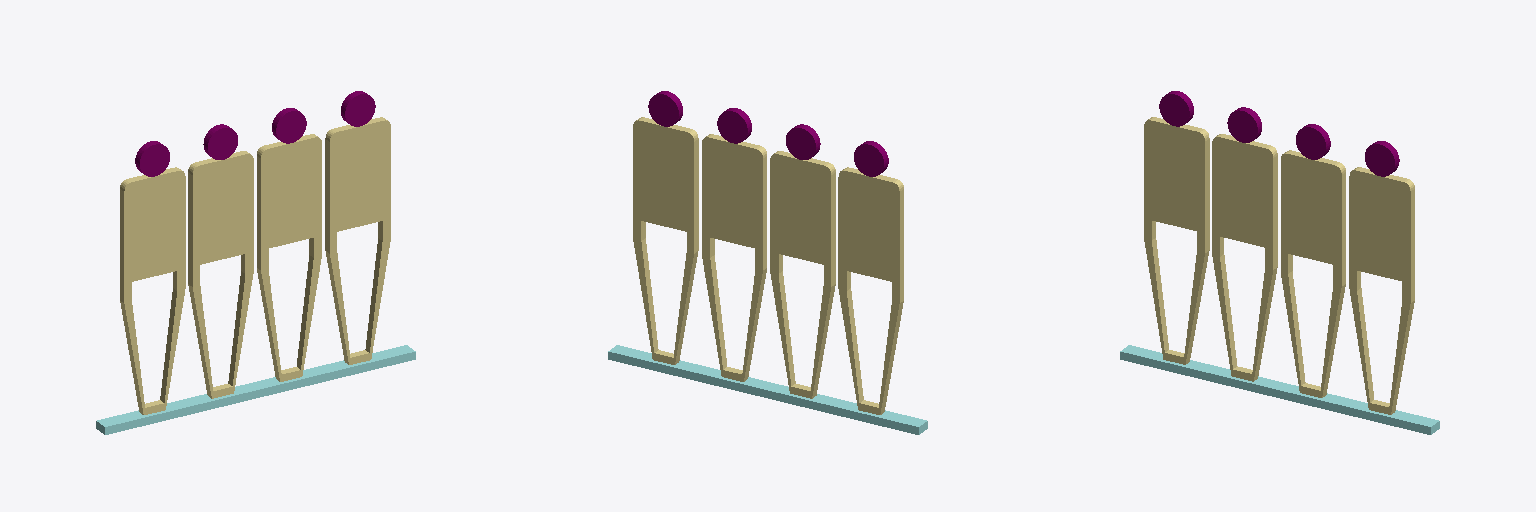
The model's file is wall.obj.
3 views of the same model, side by side, from view 1: azimuth 30°, elevation 25°; view 2: azimuth 150°, elevation 25°; view 3: azimuth 330°, elevation 25° (orthographic).
Parts seen in each view (by area): view 1: Box005, Box001, Box002, Box003, Box004, Cylinder001, Cylinder004, Cylinder002, Cylinder003; view 2: Box005, Box001, Box002, Box003, Box004, Cylinder001, Cylinder004, Cylinder002, Cylinder003; view 3: Box005, Box001, Box002, Box003, Box004, Cylinder003, Cylinder004, Cylinder001, Cylinder002.
Part boxes in pixels (x1,y1,x2,y2): Box005: (325,117,390,364); Box001: (120,167,185,414); Box002: (188,151,253,398); Box003: (257,134,321,381); Box004: (96,345,415,434); Cylinder001: (135,141,169,176); Cylinder004: (341,91,375,126); Cylinder002: (203,124,237,159); Cylinder003: (272,108,306,143); Box005: (633,117,698,364); Box001: (838,167,903,414); Box002: (770,151,835,398); Box003: (702,134,766,381); Box004: (608,345,927,434); Cylinder001: (854,141,888,176); Cylinder004: (648,91,682,126); Cylinder002: (786,124,820,159); Cylinder003: (717,108,751,143); Box005: (1349,167,1414,414); Box001: (1144,117,1209,364); Box002: (1212,134,1277,381); Box003: (1281,150,1345,397); Box004: (1120,345,1439,434); Cylinder003: (1296,124,1330,159); Cylinder004: (1365,141,1399,176); Cylinder001: (1159,91,1193,126); Cylinder002: (1227,107,1261,142).
Bounding box in the file's own units: 3.39 × 2.88 × 0.1696.